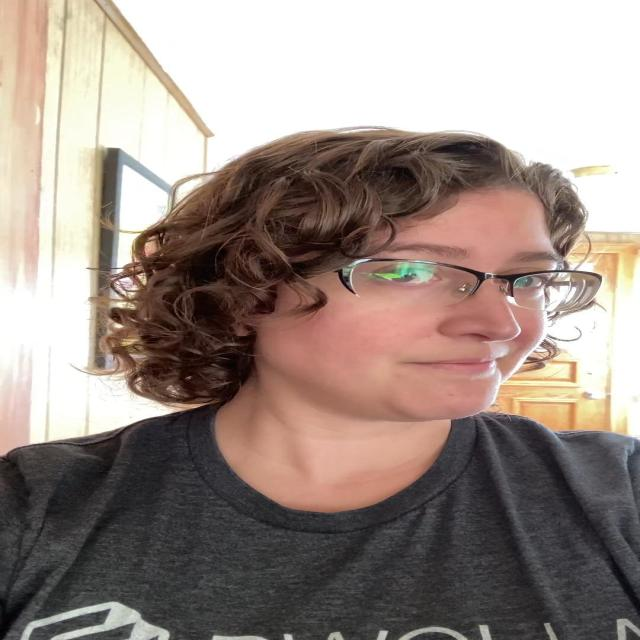no-helmet: (260, 186, 564, 423)
